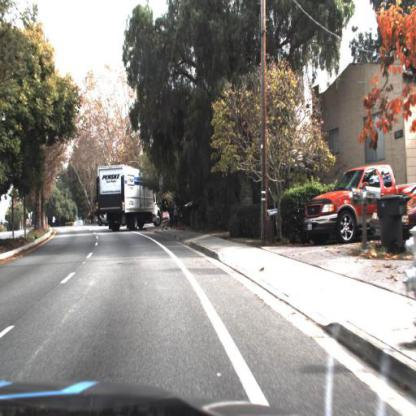car: (304, 162, 398, 242)
pedestrian: (160, 196, 171, 234), (173, 202, 179, 232), (170, 202, 174, 227)
truck: (96, 165, 163, 229)
